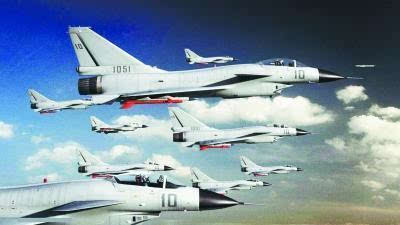airplane: (60, 24, 349, 106), (1, 177, 257, 218), (163, 101, 315, 149), (73, 145, 174, 177), (189, 164, 272, 195), (24, 86, 95, 117), (236, 157, 307, 178), (180, 46, 238, 66), (88, 117, 148, 136)
